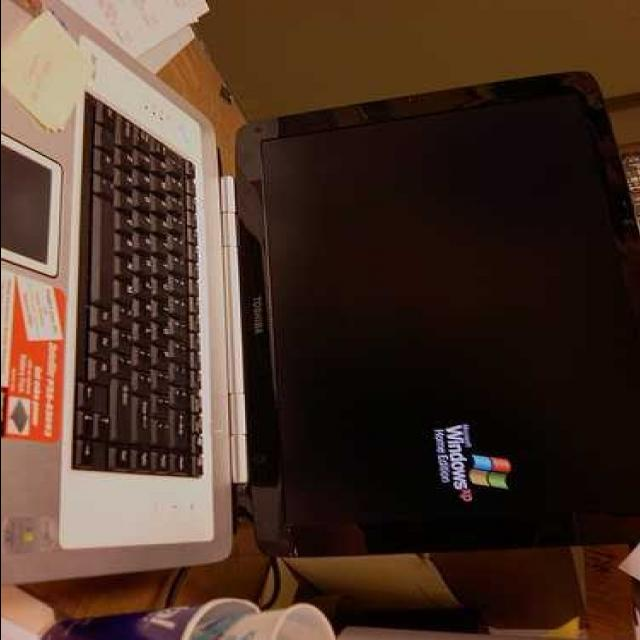laptop: (0, 74, 640, 592)
